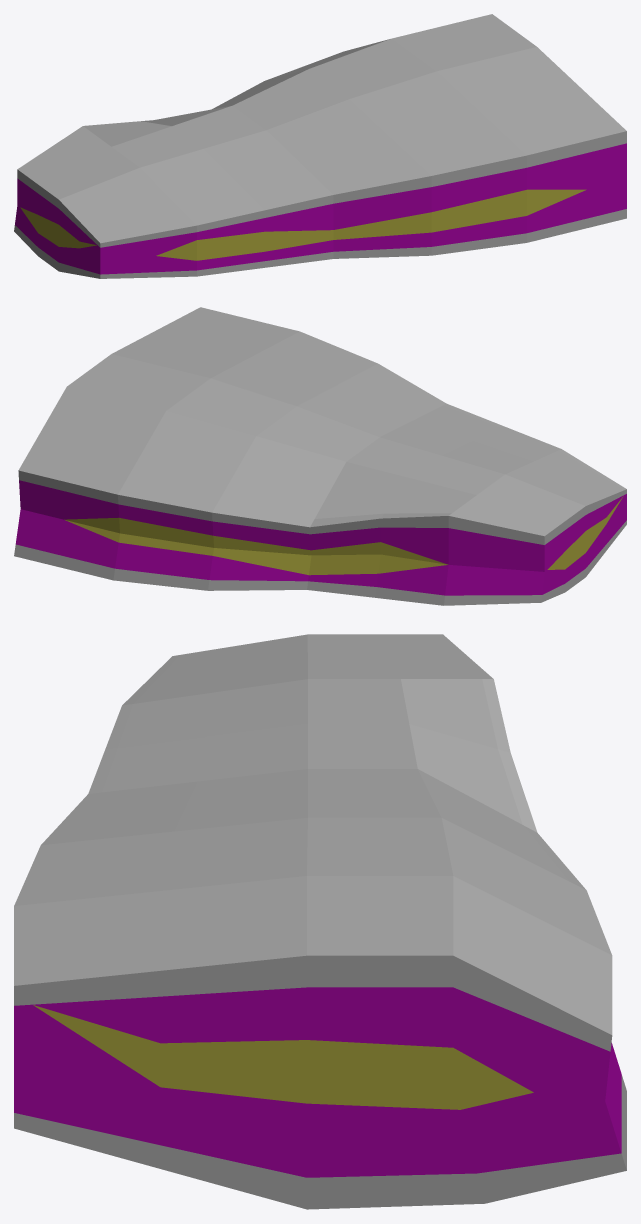
Rendered from guanciale_2.0.fbx.
3 views of the same model, one above another, from view 1: azimuth 30°, elevation 25°; view 2: azimuth 150°, elevation 25°; view 3: azimuth 270°, elevation 25° (orthographic). The views are drawn at different scales.
Parts seen in each view (by area): view 1: obj0; view 2: obj0; view 3: obj0.
Part boxes in pixels (x1,y1,x2,y2): obj0: (14, 14, 626, 278); obj0: (14, 307, 626, 605); obj0: (14, 634, 626, 1209).
Bounding box in the file's own units: 0.0344 × 0.0107 × 0.0234.
